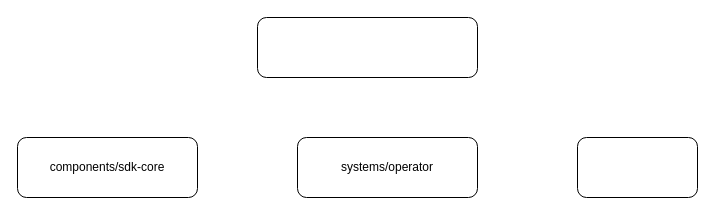
This 715x215 diagram has some shape labels left out. The box of each missing label's shape, as (x1, y1, x2, y2) in pixels:
broker: (576, 136, 698, 198)
sbd-drones-economics: (256, 16, 478, 78)
